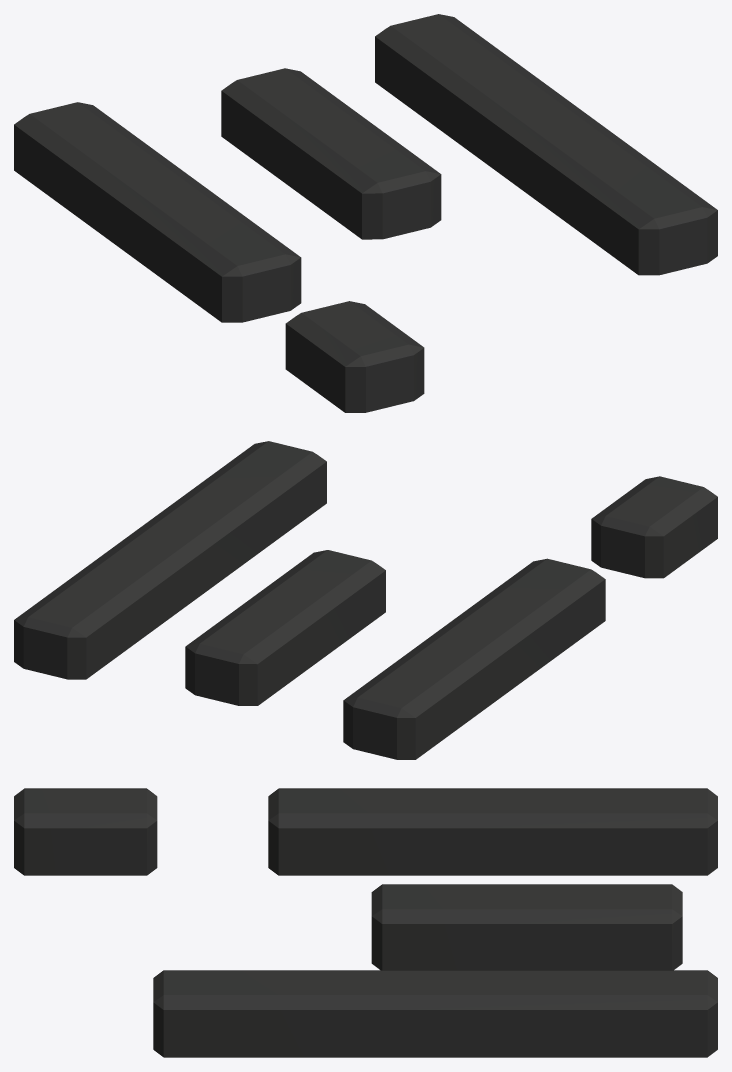
The model's file is Signs_2_2.glb.
The picture shows the model from 3 angles, top to bottom: view 1: azimuth 30°, elevation 25°; view 2: azimuth 150°, elevation 25°; view 3: azimuth 270°, elevation 25°; orthographic projection. The views are drawn at different scales.
Parts seen in each view (by area): view 1: Signs_2_2; view 2: Signs_2_2; view 3: Signs_2_2.
Boxes of the visible parts, bbox=[...] form: Signs_2_2: bbox=[14, 14, 717, 412]; Signs_2_2: bbox=[14, 441, 717, 759]; Signs_2_2: bbox=[14, 788, 717, 1057].
Size of the model in its own units: 0.2888 by 0.0331 by 0.3877.
Materials: 1 (1 with a texture image).
